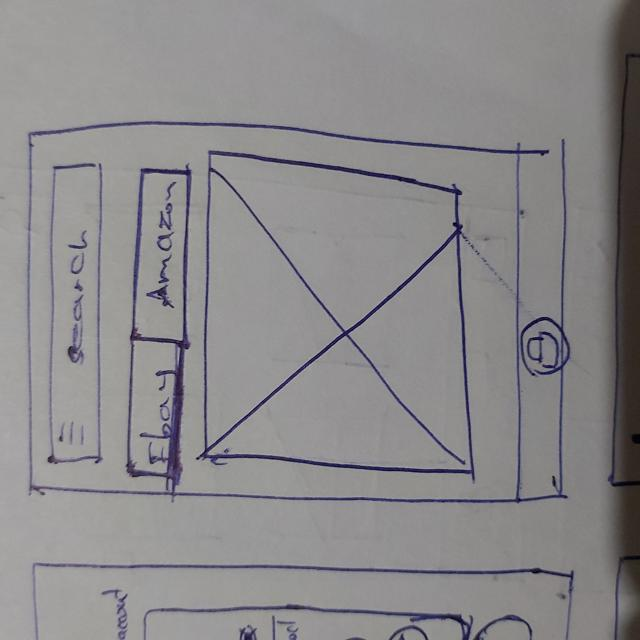AppBar: (28, 132, 112, 491)
DrawerToggleButton: (52, 419, 92, 450)
EditText: (48, 164, 102, 460)
Icon: (517, 314, 564, 378)
Image: (203, 147, 476, 477)
ImageButton: (515, 148, 564, 501)
MainLayout: (22, 119, 575, 507)
Tab: (128, 164, 187, 484)
TabItem: (134, 166, 190, 346), (126, 339, 184, 478)
